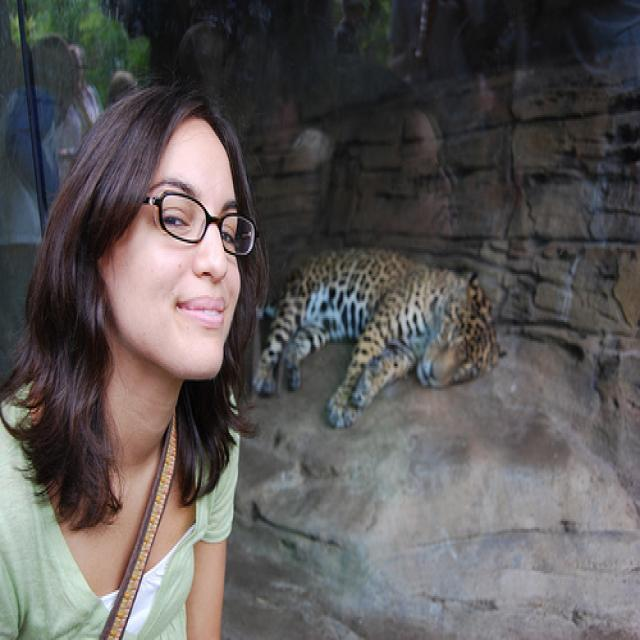Leopard: (246, 234, 512, 435)
